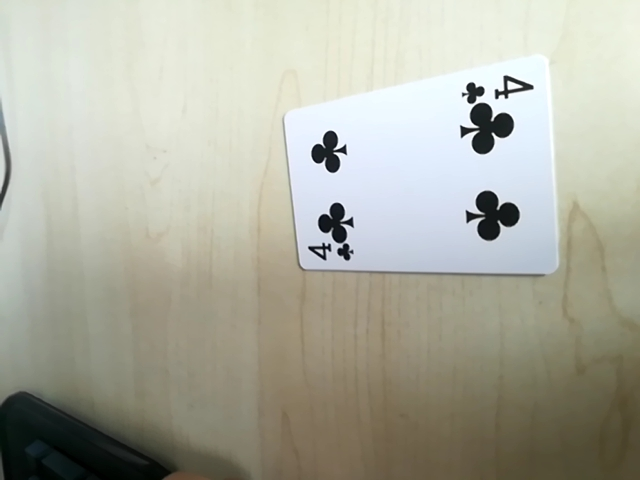mh 4: (460, 66, 539, 103), (301, 237, 357, 266)
